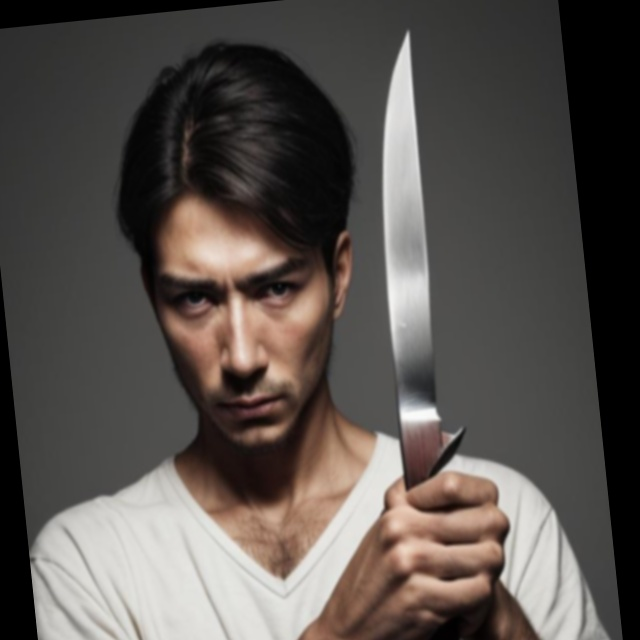Sharp-Object: (345, 21, 495, 640)
